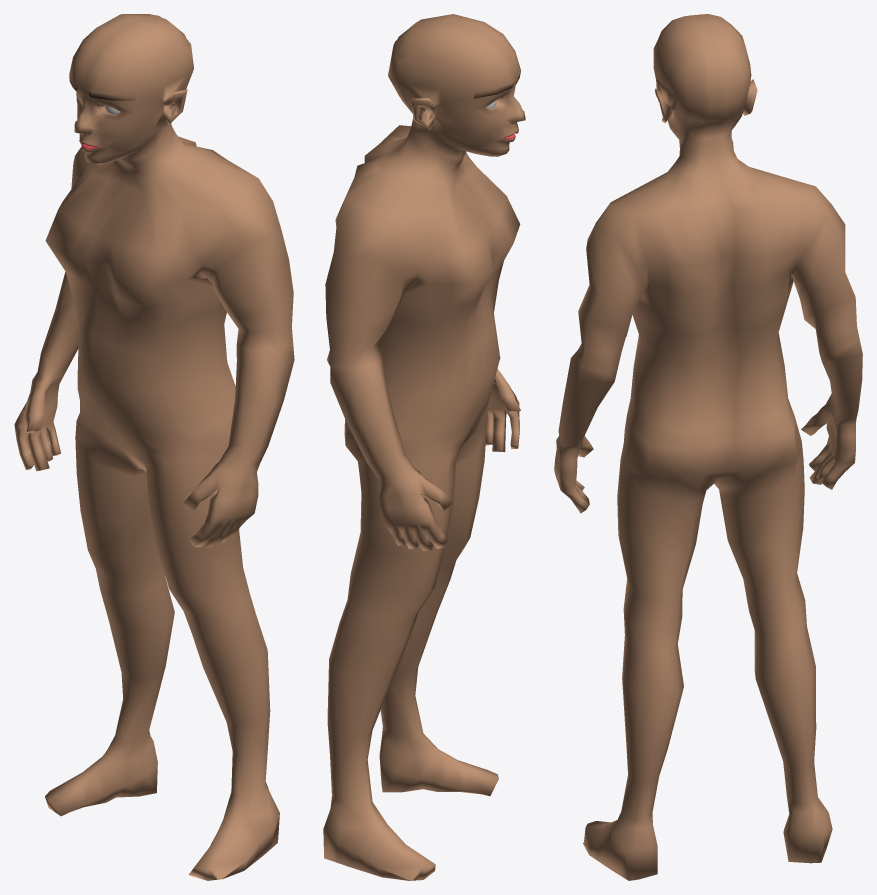
File: boneco16.glb
The picture shows the model from 3 angles, left to right: view 1: azimuth 30°, elevation 25°; view 2: azimuth 150°, elevation 25°; view 3: azimuth 270°, elevation 25°; orthographic projection.
Parts seen in each view (by area): view 1: Plane.020; view 2: Plane.020; view 3: Plane.020.
Part boxes in pixels (x1,y1,x2,y2): Plane.020: (14, 14, 294, 880); Plane.020: (323, 14, 525, 880); Plane.020: (554, 14, 862, 880).
Size of the model in its own units: 0.7665 by 3.47 by 1.2.
